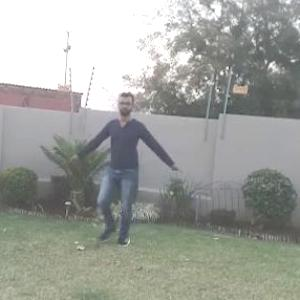land: (79, 101, 180, 235)
